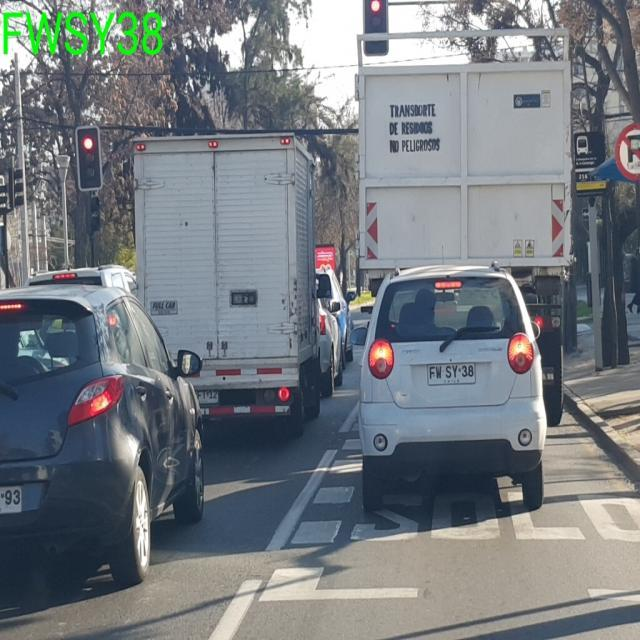16-Wheelers: (353, 29, 575, 426)
Car: (0, 265, 206, 589), (356, 261, 548, 513)
Traffic-light: (75, 125, 102, 191), (362, 0, 389, 56)
Truck: (129, 131, 323, 437)
